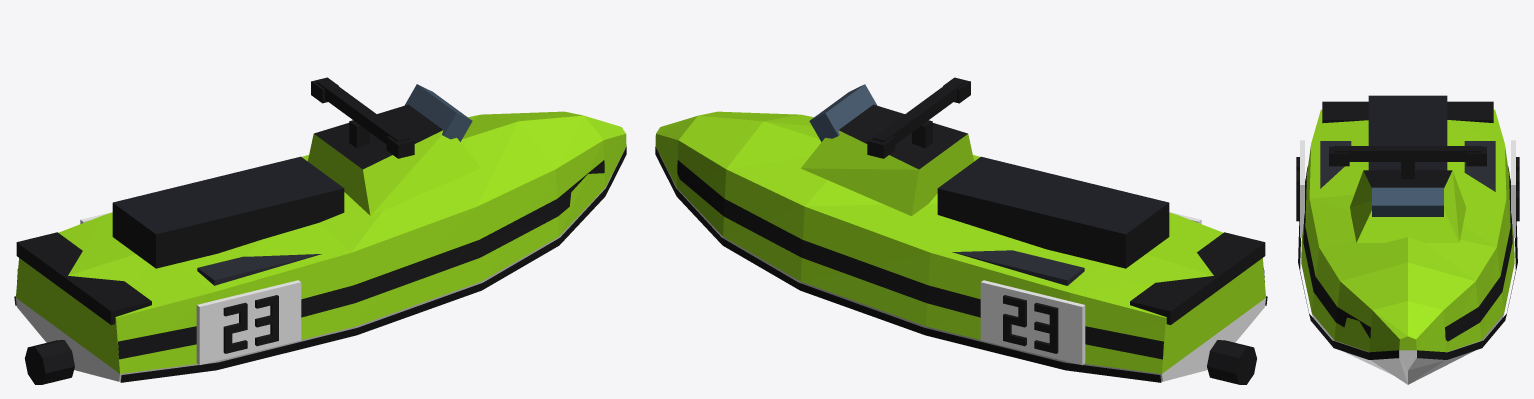
Rendered from jetski_neon_body.obj.
3 renders of one model, left to right at view 1: azimuth 30°, elevation 25°; view 2: azimuth 150°, elevation 25°; view 3: azimuth 270°, elevation 25°, orthographic. The views are drawn at different scales.
Parts seen in each view (by area): view 1: jetski_neon_body; view 2: jetski_neon_body; view 3: jetski_neon_body.
Part boxes in pixels (bbox=[...]): jetski_neon_body: bbox=[14, 77, 626, 384]; jetski_neon_body: bbox=[655, 77, 1267, 384]; jetski_neon_body: bbox=[1296, 95, 1519, 384].
Size of the model in its own units: 3.58 by 1.85 by 1.3.
